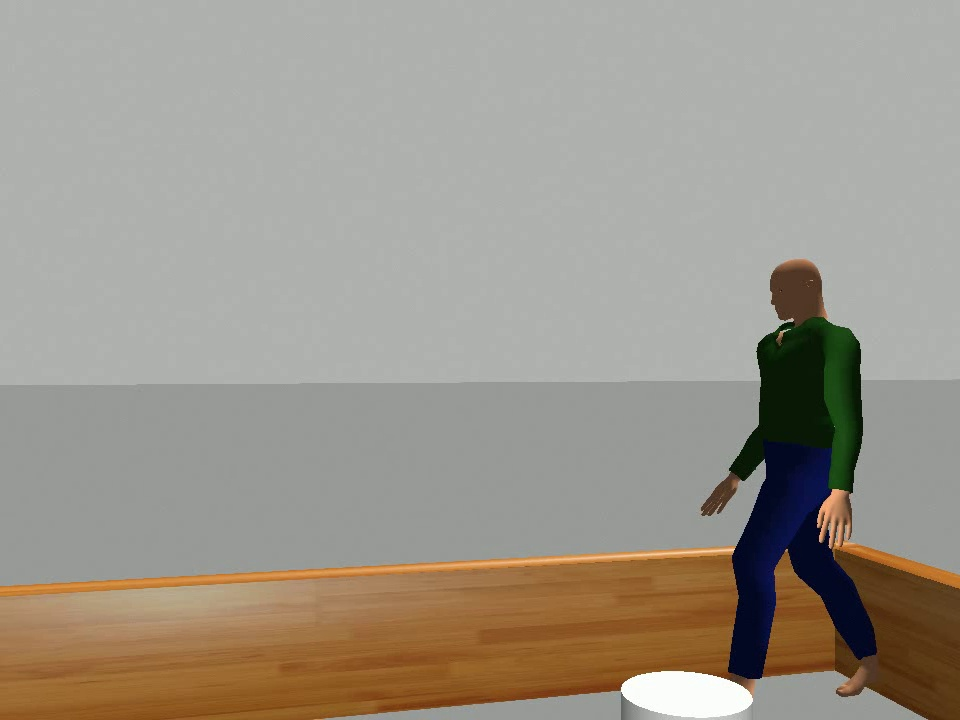person: (699, 256, 886, 699)
